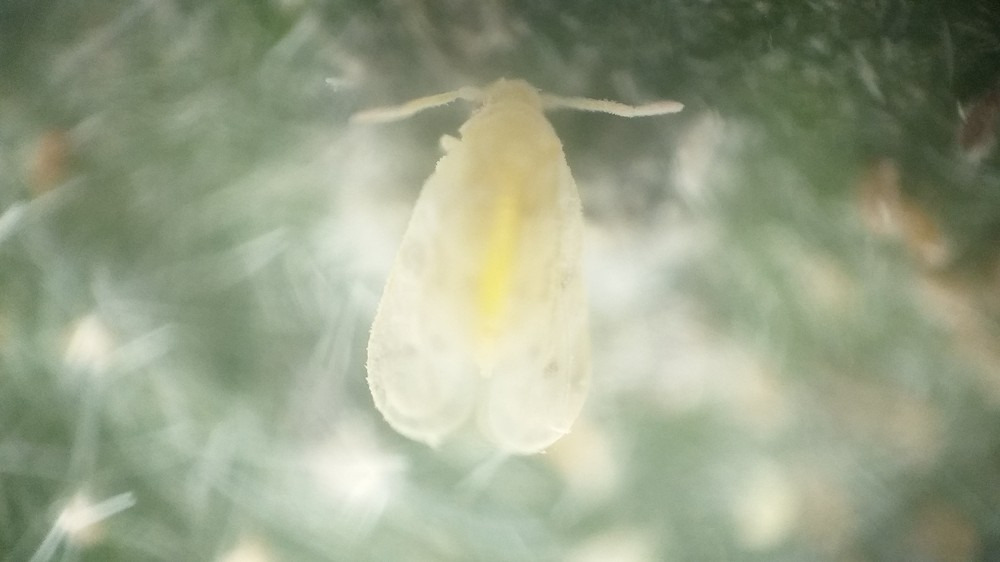Mosca Blanca: (319, 66, 690, 474)
